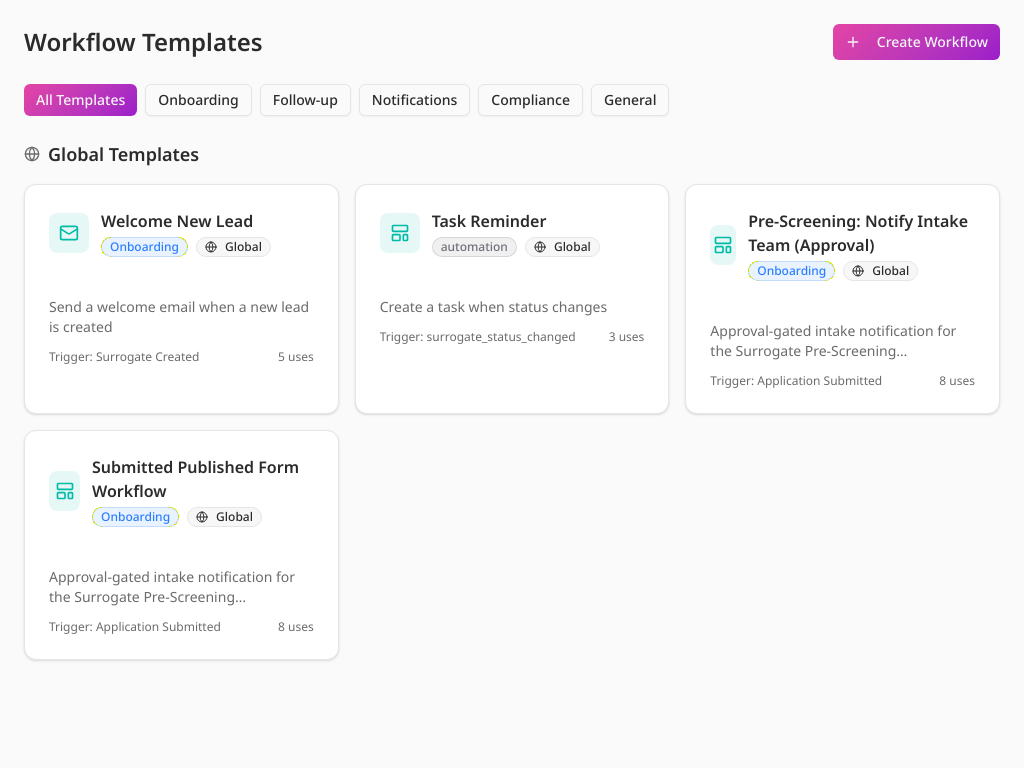
Test: WorkflowTemplatesPanel › shows a published form selector for form-scoped templates
Click the button with aria-label "use template pre-screening: notify intake team": (858, 221) [685, 184, 1000, 414]
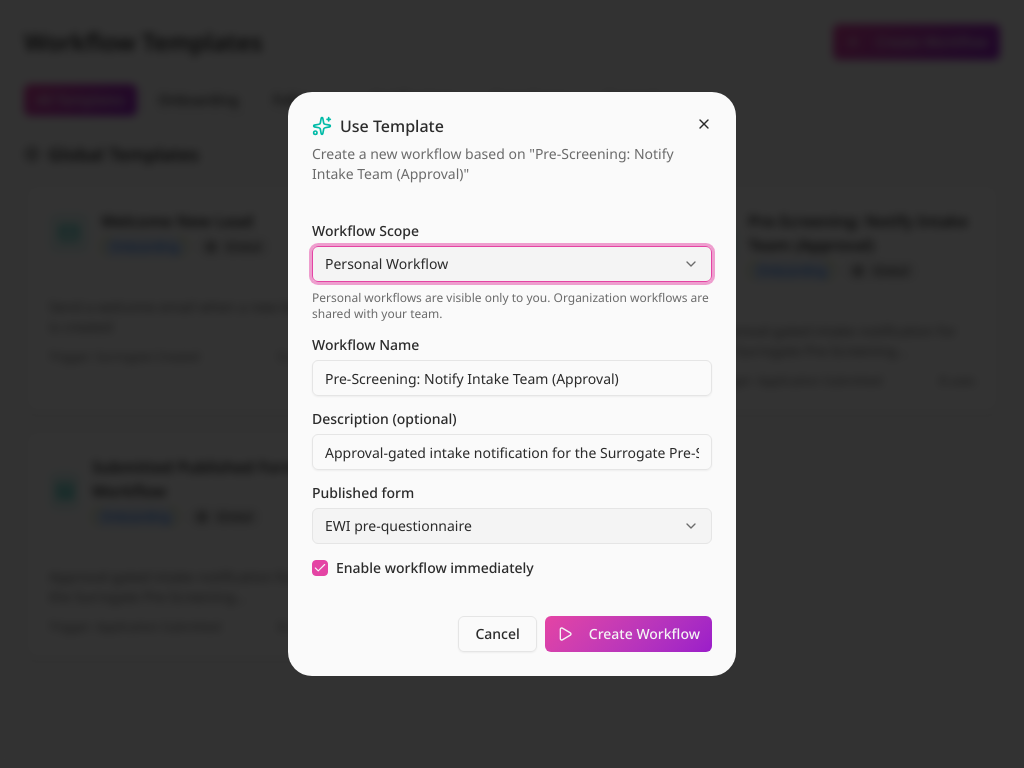
Result: the text "Published form" is shown at [312, 483, 414, 502]
Result: the text "EWI pre-questionnaire" is shown at [325, 516, 472, 535]
